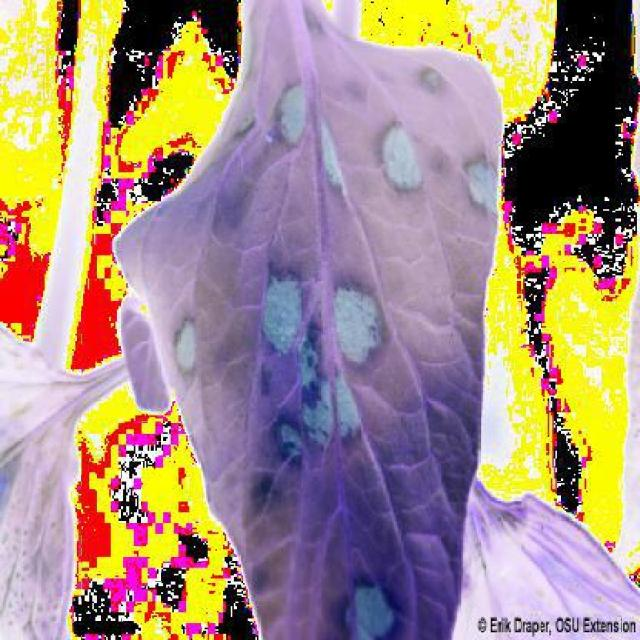Leaf Mold: (121, 21, 507, 633)
